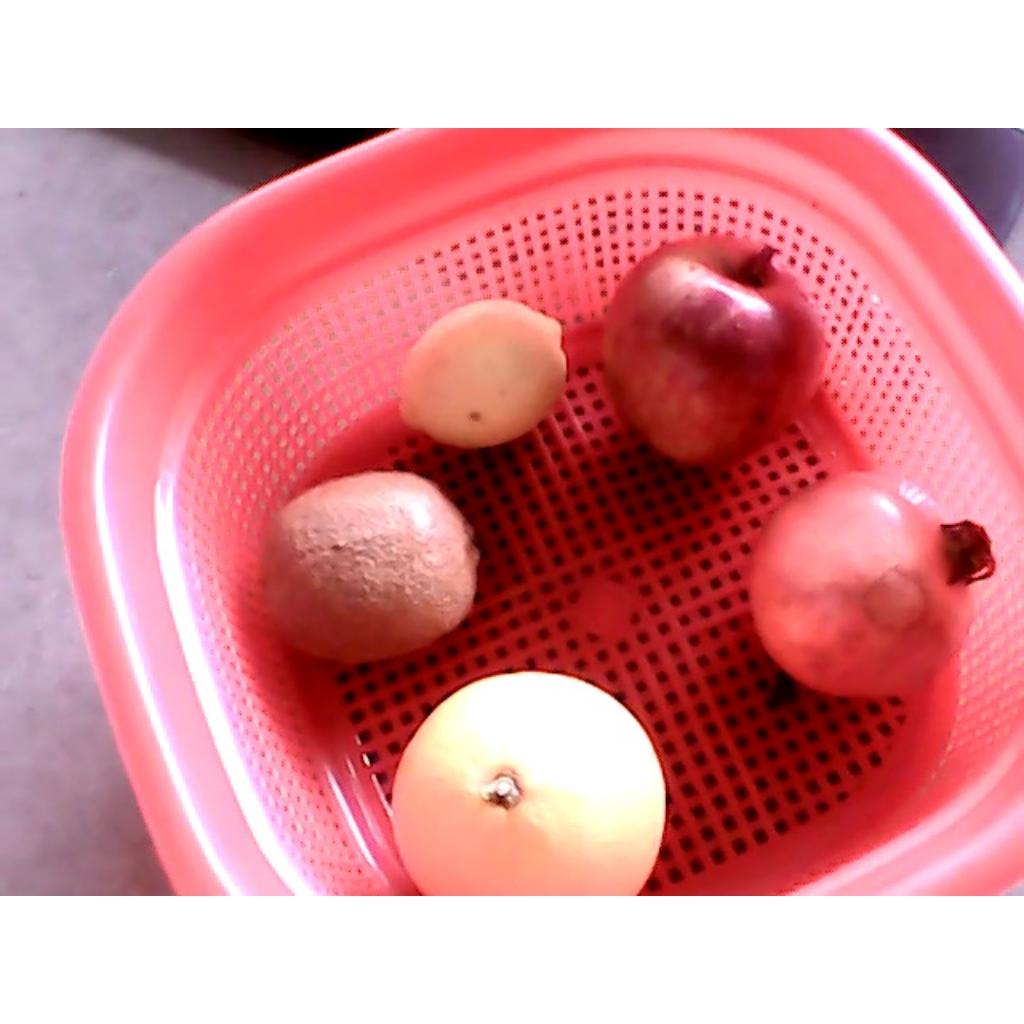apple: (601, 236, 821, 466)
kiwi: (263, 472, 478, 663)
lemon: (398, 301, 567, 448)
orange: (390, 671, 664, 894)
pomegranate: (747, 471, 1000, 697)
